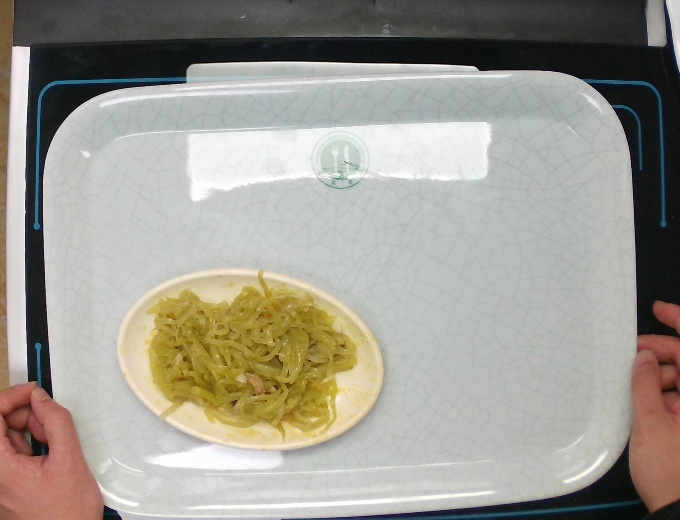JYsf-Tuo_Yuan_Wan: (116, 264, 384, 453)
